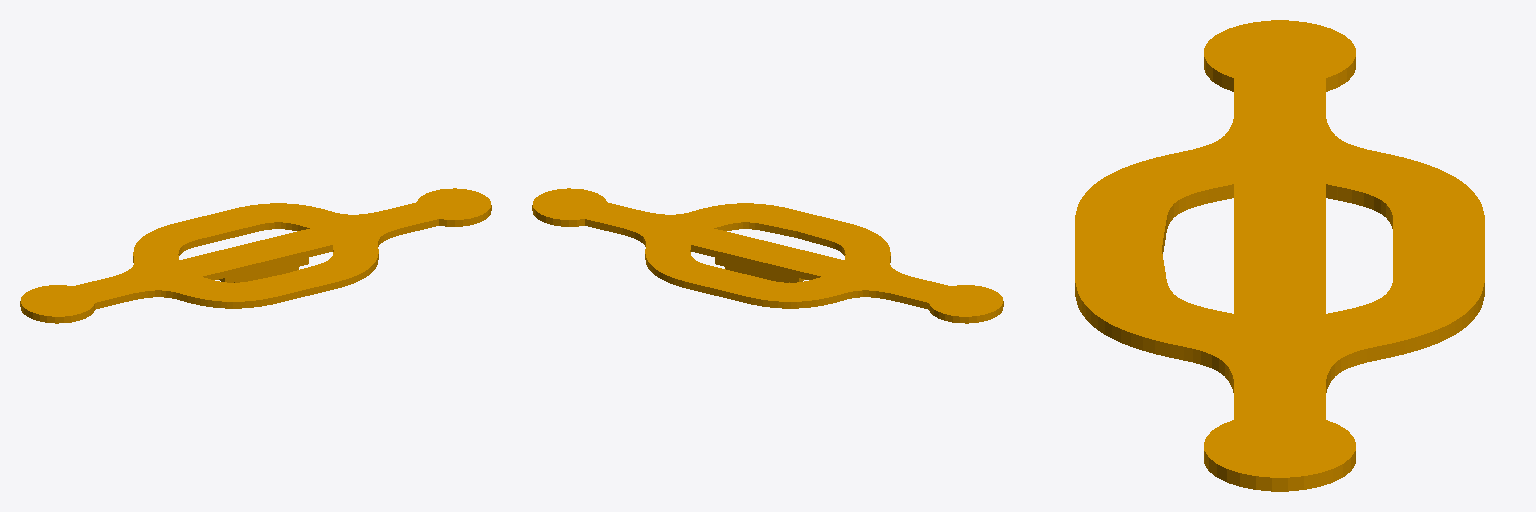
URDF robot description ((Unsaved)):
<?xml version="1.0" ?>
<robot name="(Unsaved)">

<material name="red">
  <color rgba="1.000 0.000 0.000 1.000"/>
</material>

<link name="base_link">
  <inertial>
    <origin rpy="0 0 0" xyz="1.5199999999999934 0.000564459235878268 0.005916962934627706"/>
    <mass value="105900.920070873599"/>
    <inertia ixx="90.30655767863351" ixy="-7.044553829160805e-11" ixz="2.7355895326763857e-13" iyy="619.3595874589746" iyz="-0.01141703134798602" izz="704.8116544444647"/>
  </inertial>
  <visual>
    <origin rpy="0 0 0" xyz="0 0 0"/>
    <geometry>
      <mesh filename="meshes/base_link_track.stl" scale="0.001 0.001 0.001"/>
    </geometry>
    <material name="red"/>
    <material/>
  </visual>
  <collision concave="yes">
    <origin rpy="0 0 0" xyz="0 0 0"/>
    <geometry>
      <mesh filename="meshes/base_link_track.stl" scale="0.001 0.001 0.001"/>
      <!-- <box size="7.1 2.0 0.05"/> -->
    </geometry>
  </collision>
</link>

</robot>

--- Render facts (derived) ---
Views: 3 orthographic renders of the robot side by side, from view 1: azimuth 30°, elevation 25°; view 2: azimuth 150°, elevation 25°; view 3: azimuth 270°, elevation 25°.
Model (Unsaved) with 1 links and 0 joints (none), rooted at base_link, posed all joints at 0.
Visible links, largest first — view 1: base_link; view 2: base_link; view 3: base_link.
Link boxes in pixels (bbox=[...]): base_link: bbox=[20, 188, 491, 323]; base_link: bbox=[532, 188, 1003, 323]; base_link: bbox=[1075, 20, 1484, 491].
Bounding box of the posed robot: 3.54 × 1.34 × 0.25 m (x, y, z).
1 mesh visuals loaded from 1 distinct referenced files (1 binary STL).